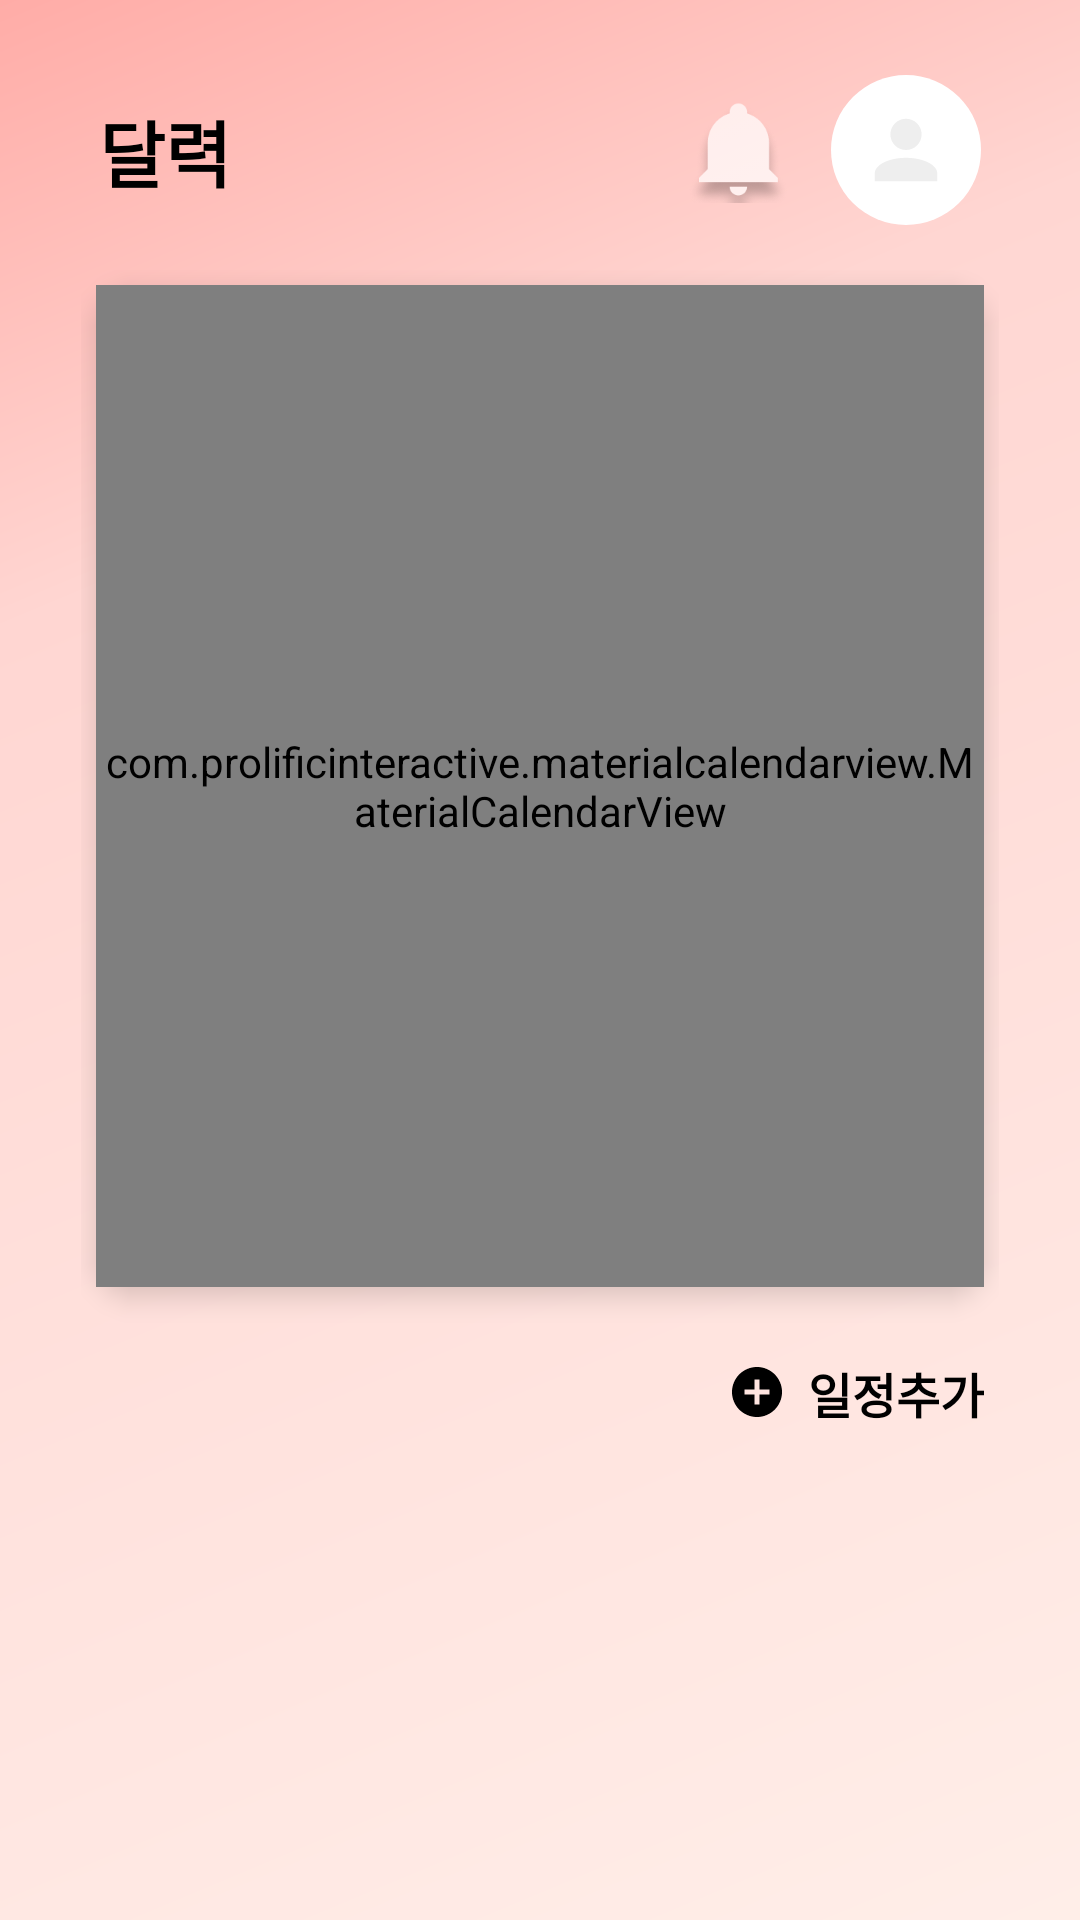

Screen size 1080×1920. Icon name, then its center in pixels as point (x, y):
notification: point (738, 153)
plus circle: point (757, 1392)
